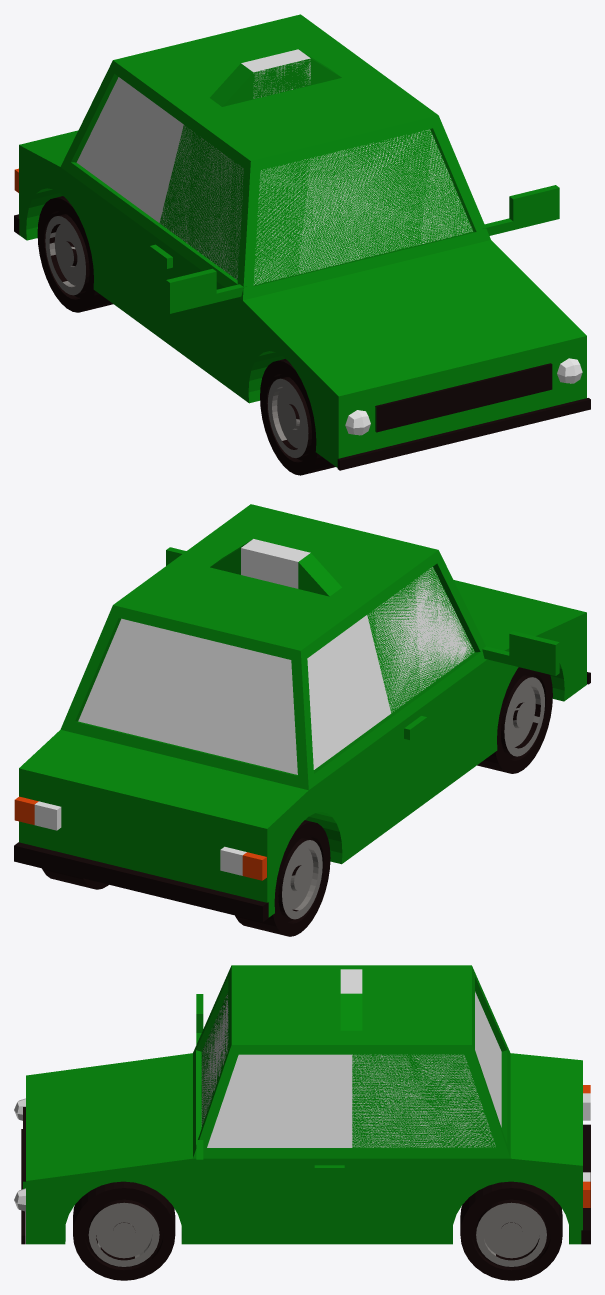
Rendered from GreenCar.fbx.
3 views of the same model, one above another, from view 1: azimuth 30°, elevation 25°; view 2: azimuth 150°, elevation 25°; view 3: azimuth 270°, elevation 25° (orthographic). The views are drawn at different scales.
Visible parts, largest first — view 1: Cube, Cube.001, Cube.006, Cube.005, Cube.002; view 2: Cube, Cube.001, Cube.006, Cube.005; view 3: Cube, Cube.005, Cube.006, Cube.001.
Boxes of the visible parts, x1,y1,x2,y2 form: Cube: (19, 14, 586, 467); Cube.001: (14, 168, 559, 432); Cube.006: (37, 196, 113, 312); Cube.005: (260, 359, 335, 475); Cube.002: (337, 398, 590, 470); Cube: (19, 504, 586, 917); Cube.001: (14, 547, 559, 922); Cube.006: (42, 820, 330, 936); Cube.005: (477, 667, 552, 773); Cube: (26, 965, 582, 1244); Cube.005: (73, 1181, 175, 1280); Cube.006: (460, 1181, 562, 1280); Cube.001: (23, 994, 590, 1244).
Size of the model in its own units: 398 by 280 by 586.
